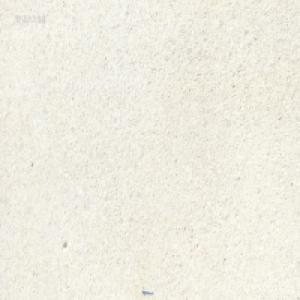Nail: (141, 287, 153, 295)
